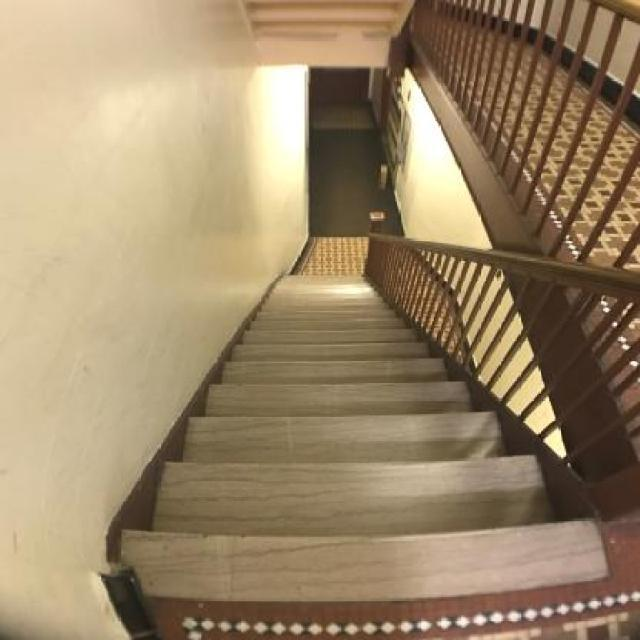stair: (100, 180, 618, 606)
